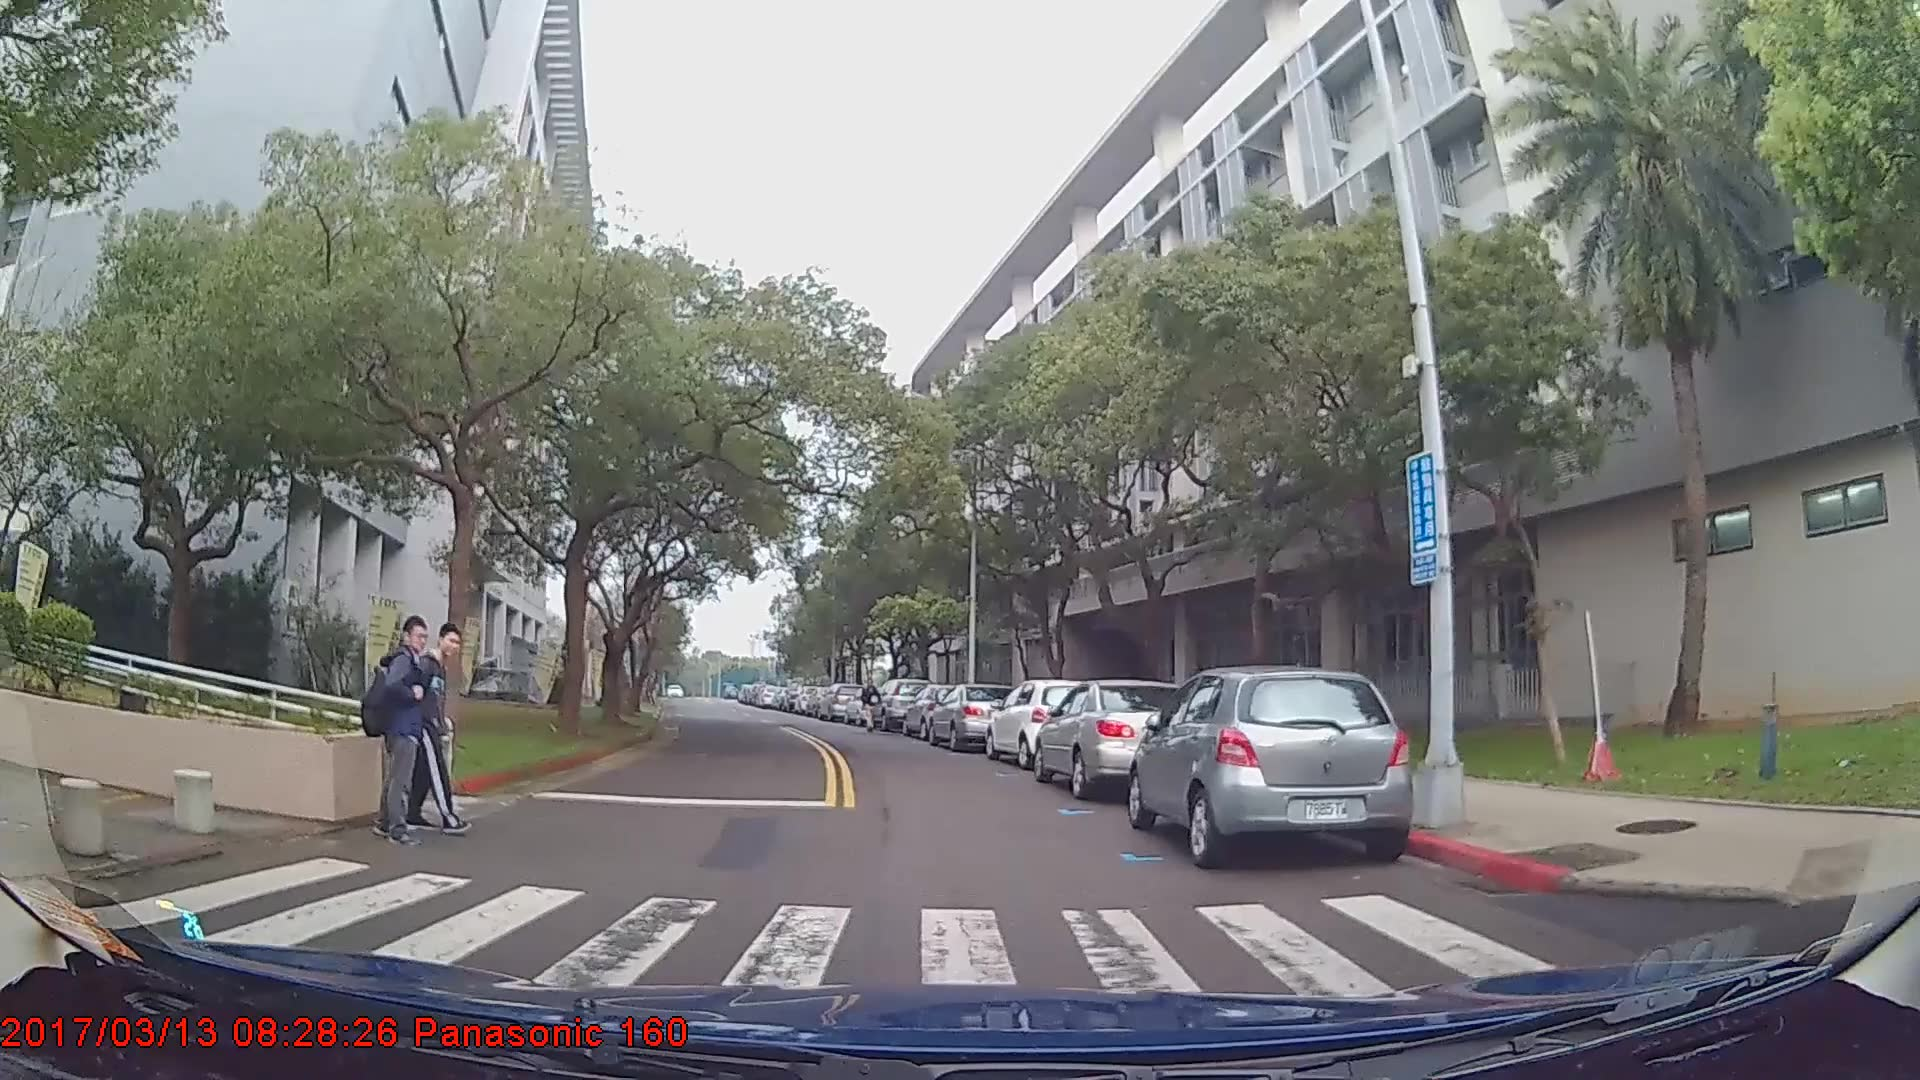pedestrian: (347, 619, 438, 851), (390, 626, 481, 841), (862, 677, 884, 736)
vehicle: (1129, 661, 1416, 870), (1030, 677, 1206, 799), (985, 679, 1099, 769), (927, 679, 1020, 749), (903, 680, 977, 739), (866, 675, 935, 730), (819, 682, 871, 721)
